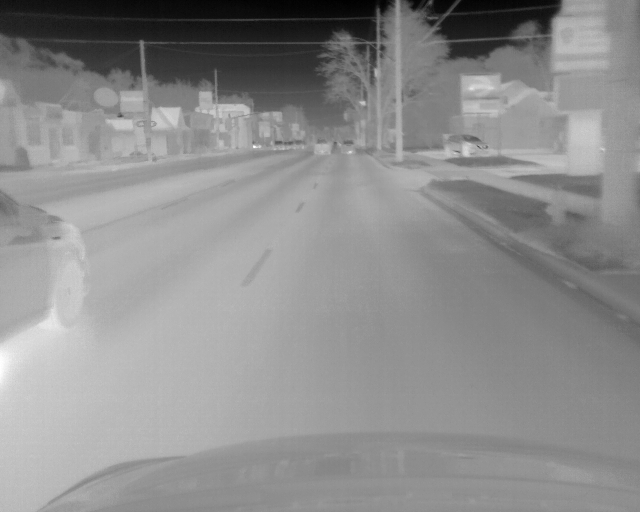car: (1, 179, 89, 354), (444, 134, 491, 158), (313, 138, 332, 156), (339, 139, 356, 155), (272, 139, 285, 151), (295, 140, 304, 150), (286, 140, 294, 150)
